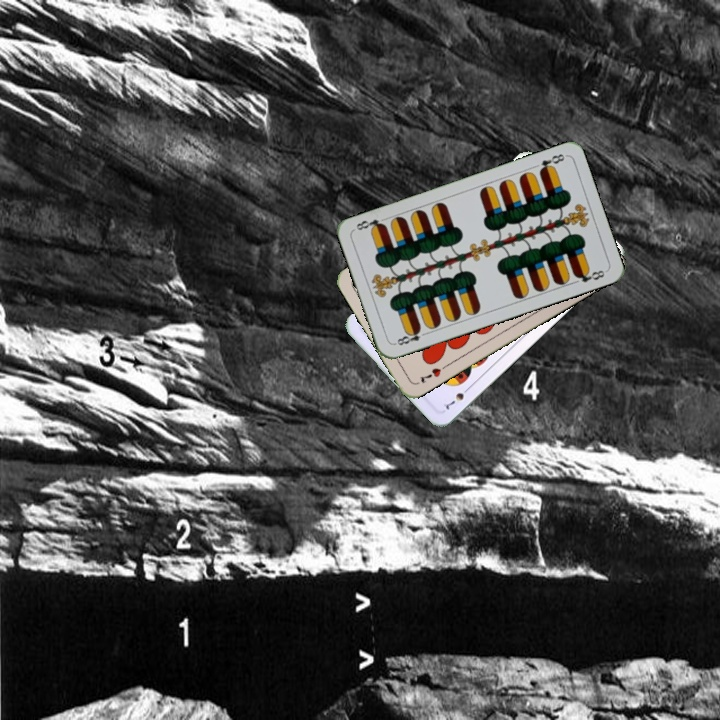E8: (390, 324, 430, 348), (535, 150, 568, 176)
H7: (415, 361, 450, 386)
S7: (439, 382, 473, 412)
